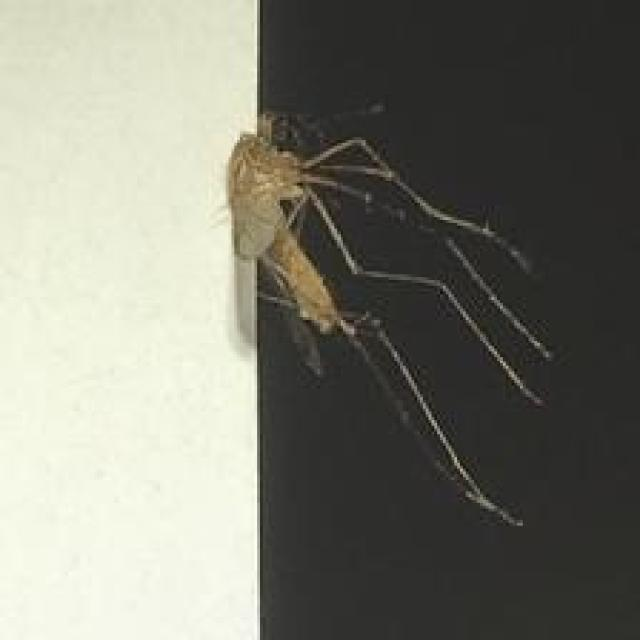Culex: (223, 109, 560, 528)
